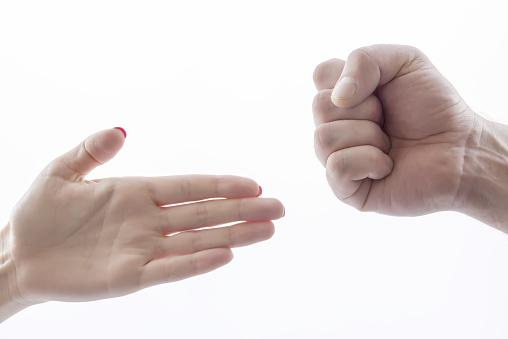paper: (19, 118, 290, 308)
rock: (305, 38, 471, 220)
